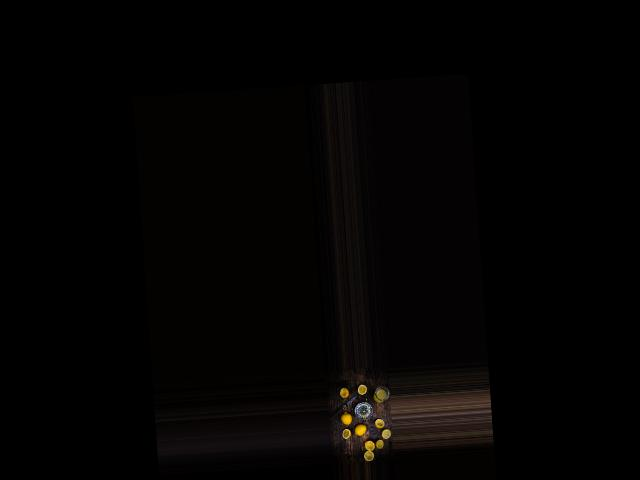lemon: (341, 411, 354, 429)
